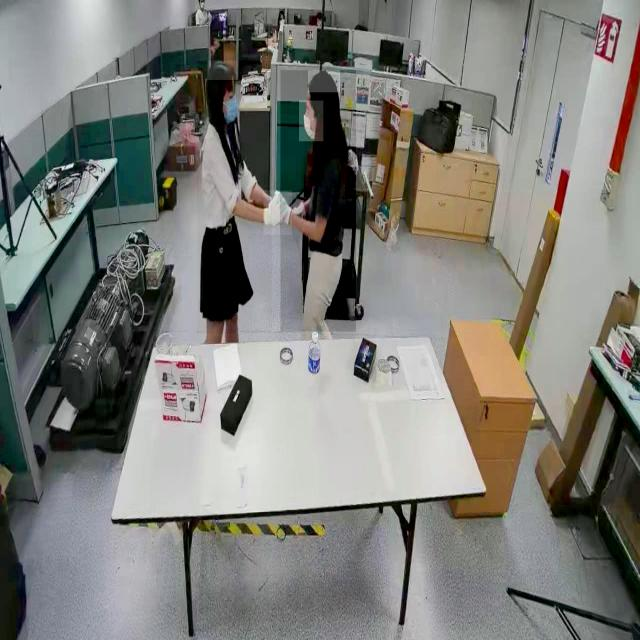face_mask: (218, 78, 240, 124), (299, 100, 323, 142)
hand_glove: (263, 190, 292, 236)
head_nohelmet: (308, 70, 340, 94), (207, 60, 237, 81), (279, 9, 285, 14)
person: (196, 61, 272, 334), (280, 70, 356, 332)
